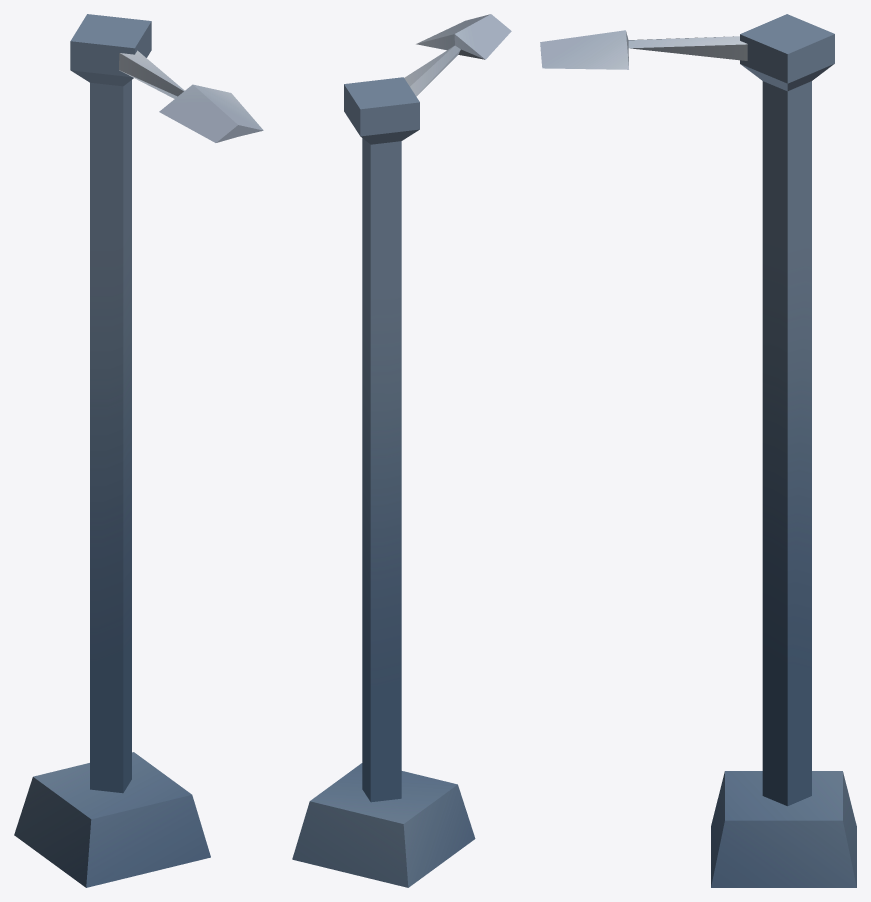
The model's file is lamparacalle1.glb.
3 renders of one model, left to right at view 1: azimuth 30°, elevation 25°; view 2: azimuth 150°, elevation 25°; view 3: azimuth 270°, elevation 25°, orthographic. The views are drawn at different scales.
Visible parts, largest first — view 1: Plane.001, Plane, light; view 2: Plane.001, Plane, light; view 3: Plane.001, Plane, light.
Boxes of the visible parts, left/top/right/bottom form: Plane.001: left=70, top=14, right=151, bottom=793; Plane: left=14, top=752, right=210, bottom=887; light: left=119, top=50, right=263, bottom=142; Plane.001: left=344, top=77, right=419, bottom=802; Plane: left=292, top=763, right=475, bottom=887; light: left=404, top=14, right=511, bottom=96; Plane.001: left=740, top=14, right=834, bottom=806; Plane: left=711, top=771, right=856, bottom=887; light: left=540, top=30, right=747, bottom=69.
Size of what is drawn, in the model's own units: 1.44 by 9.03 by 3.13.
1 material, 1 textured.
